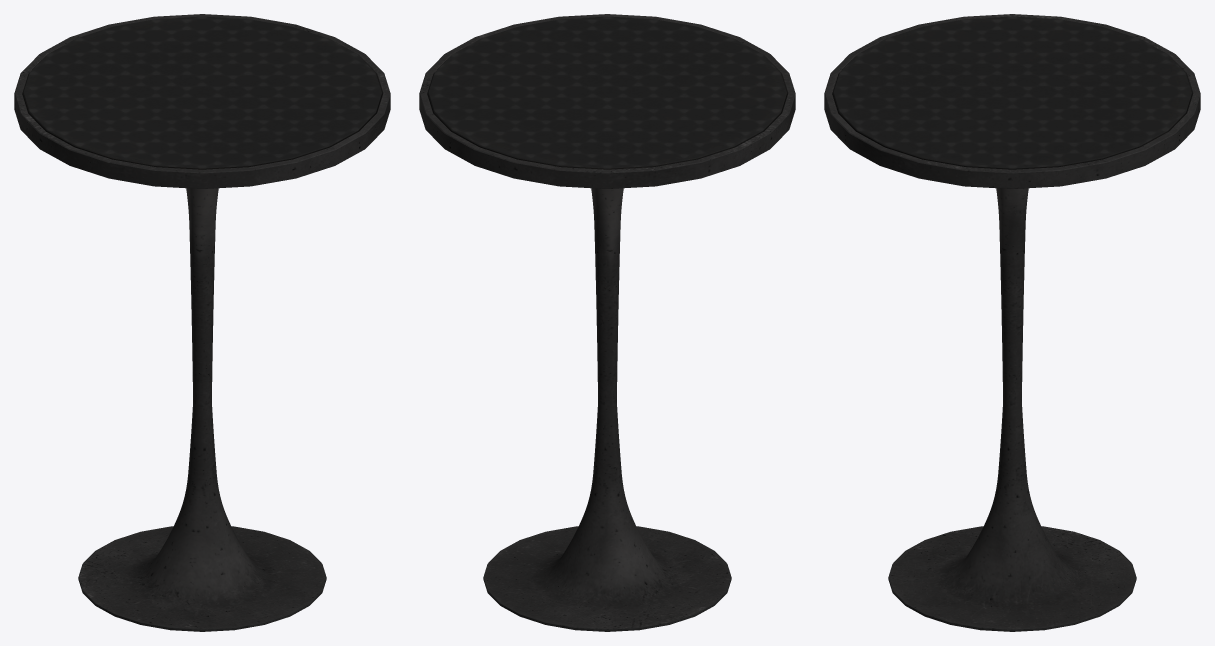
File: game_hall_table.fbx
3 renders of one model, left to right at view 1: azimuth 30°, elevation 25°; view 2: azimuth 150°, elevation 25°; view 3: azimuth 270°, elevation 25°, orthographic.
Parts seen in each view (by area): view 1: Mesh1 skp9BA4_1 Model; view 2: Mesh1 skp9BA4_1 Model; view 3: Mesh1 skp9BA4_1 Model.
Part boxes in pixels (x1,y1,x2,y2): Mesh1 skp9BA4_1 Model: [14, 14, 390, 631]; Mesh1 skp9BA4_1 Model: [419, 14, 795, 631]; Mesh1 skp9BA4_1 Model: [824, 14, 1200, 631].
Bounding box in the file's own units: 70 × 100 × 70.
1 material, 1 textured.
